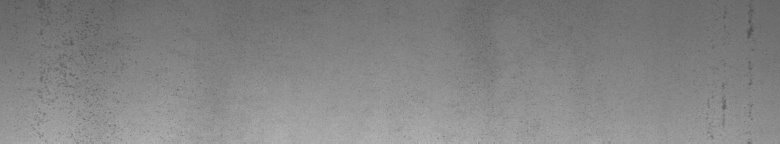ib: (28, 30, 116, 127)
